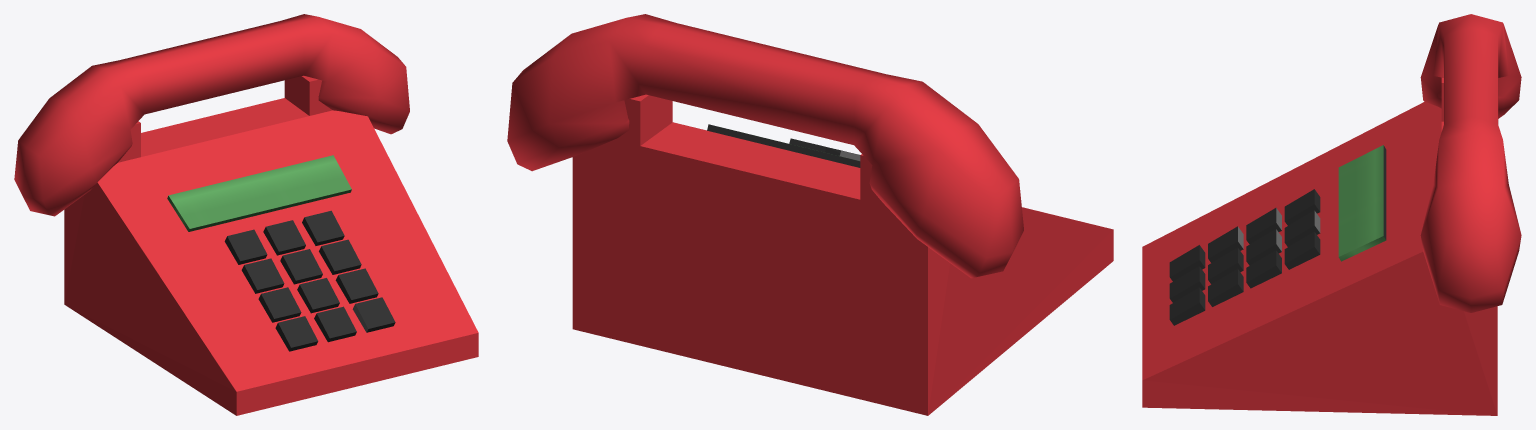
The model's file is Telefono.fbx.
3 renders of one model, left to right at view 1: azimuth 30°, elevation 25°; view 2: azimuth 150°, elevation 25°; view 3: azimuth 270°, elevation 25°, orthographic. The views are drawn at different scales.
Visible parts, largest first — view 1: Telefono; view 2: Telefono; view 3: Telefono.
Boxes of the visible parts, bbox=[...] form: Telefono: bbox=[14, 14, 478, 415]; Telefono: bbox=[507, 14, 1113, 415]; Telefono: bbox=[1142, 14, 1521, 415].
Size of the model in its own units: 62.43 by 37.46 by 47.89.
